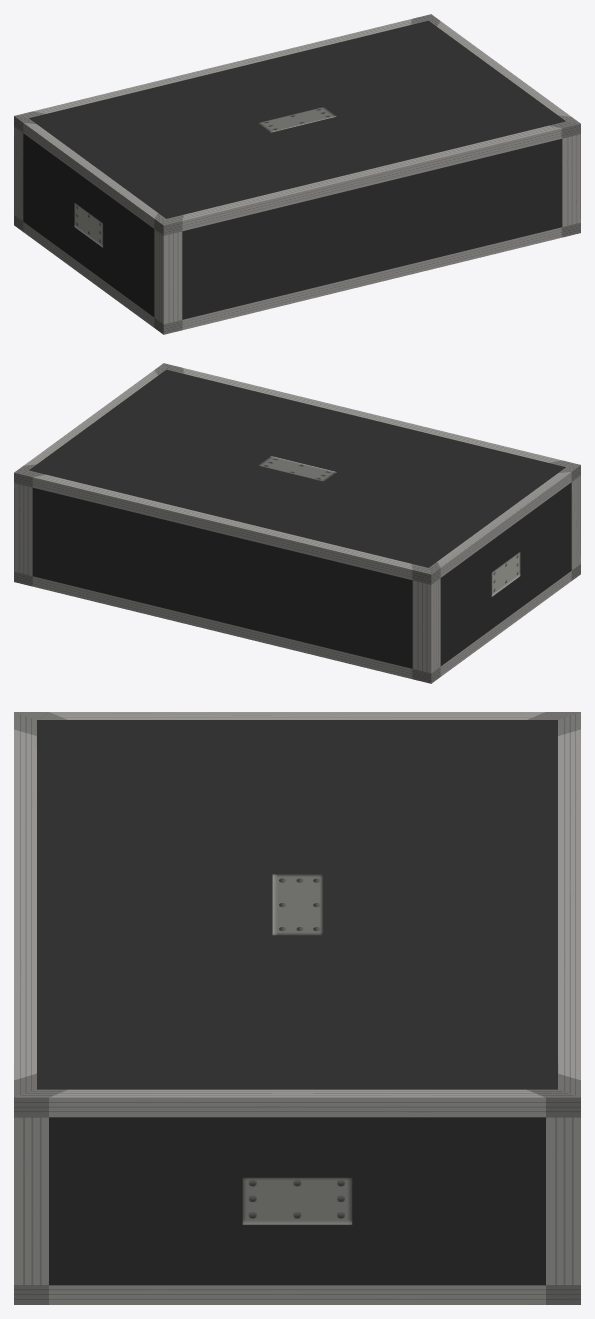
Rendered from John_Sitting_Prop.fbx.
3 views of the same model, one above another, from view 1: azimuth 30°, elevation 25°; view 2: azimuth 150°, elevation 25°; view 3: azimuth 270°, elevation 25° (orthographic). The views are drawn at different scales.
Parts seen in each view (by area): view 1: Sitting_Prop; view 2: Sitting_Prop; view 3: Sitting_Prop.
Part boxes in pixels (x1,y1,x2,y2): Sitting_Prop: (14, 14, 580, 334); Sitting_Prop: (14, 363, 580, 683); Sitting_Prop: (14, 712, 580, 1304).
Size of the model in its own units: 1.78 by 0.4449 by 1.1.
